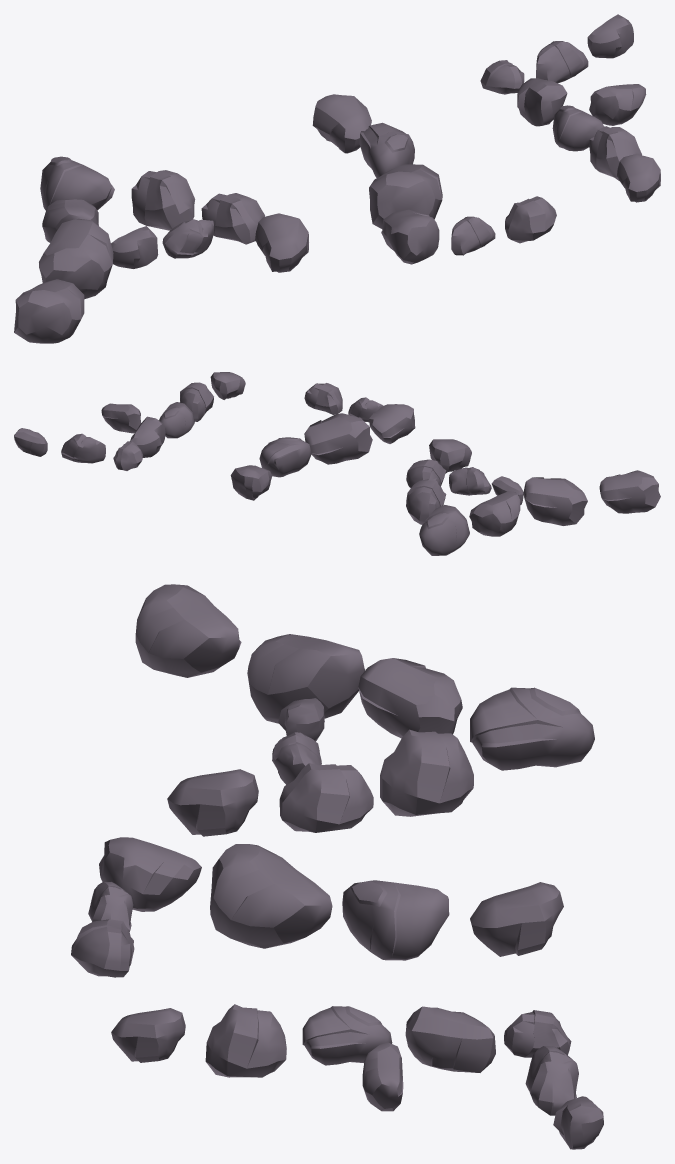
The model's file is P_Stone_alf_LD.fbx.
3 views of the same model, one above another, from view 1: azimuth 30°, elevation 25°; view 2: azimuth 150°, elevation 25°; view 3: azimuth 270°, elevation 25° (orthographic). The views are drawn at different scales.
Visible parts, largest first — view 1: P_Stone_alf; view 2: P_Stone_alf; view 3: P_Stone_alf.
Part boxes in pixels (box(x1,y1,x2,y2)): P_Stone_alf: box(14, 14, 660, 343); P_Stone_alf: box(14, 372, 660, 555); P_Stone_alf: box(71, 584, 603, 1149).
Bounding box in the file's own units: 371 × 29.99 × 158.
